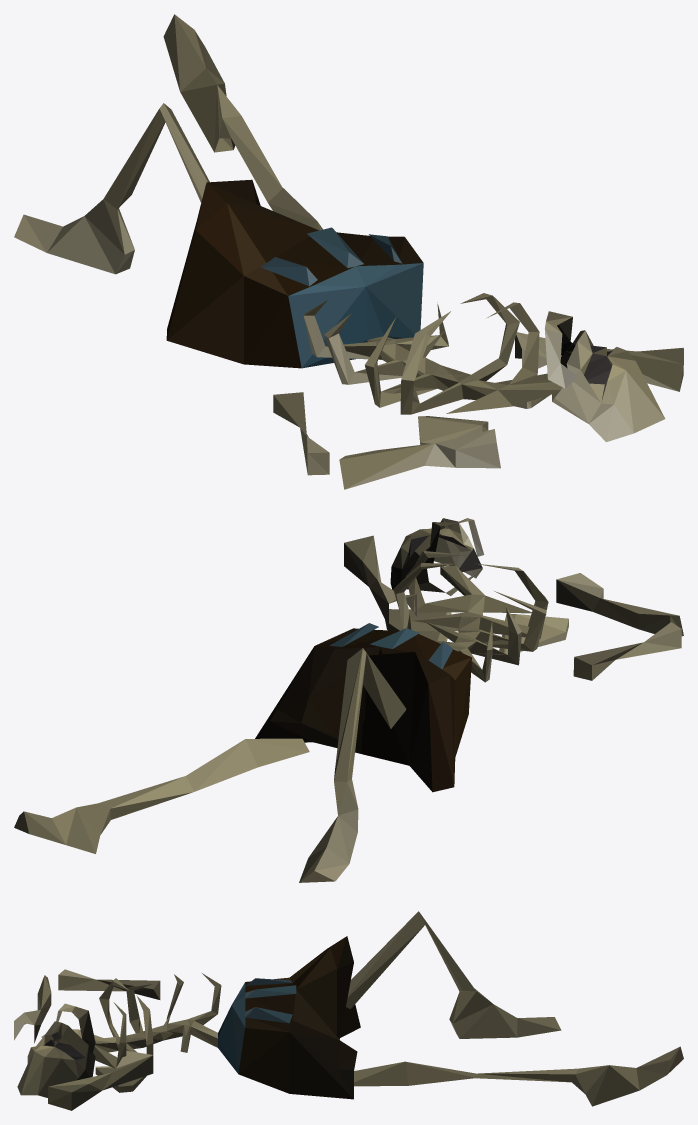
Rendered from skeleton.obj.
3 views of the same model, one above another, from view 1: azimuth 30°, elevation 25°; view 2: azimuth 150°, elevation 25°; view 3: azimuth 270°, elevation 25° (orthographic). The views are drawn at different scales.
Visible parts, largest first — view 1: Object Skeleton 2026-09-12_21-06-45; view 2: Object Skeleton 2026-09-12_21-06-45; view 3: Object Skeleton 2026-09-12_21-06-45.
Part boxes in pixels (box(x1,y1,x2,y2)): Object Skeleton 2026-09-12_21-06-45: box(14, 14, 683, 489); Object Skeleton 2026-09-12_21-06-45: box(14, 518, 683, 882); Object Skeleton 2026-09-12_21-06-45: box(14, 911, 683, 1110).
Bounding box in the file's own units: 90 × 43 × 197.
